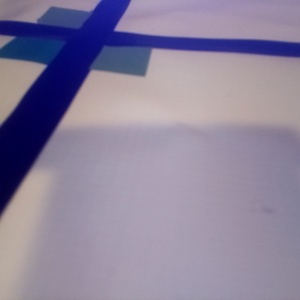bottom_left: (1, 29, 89, 65)
bottom_right: (65, 35, 153, 76)
top_left: (38, 7, 113, 38)
